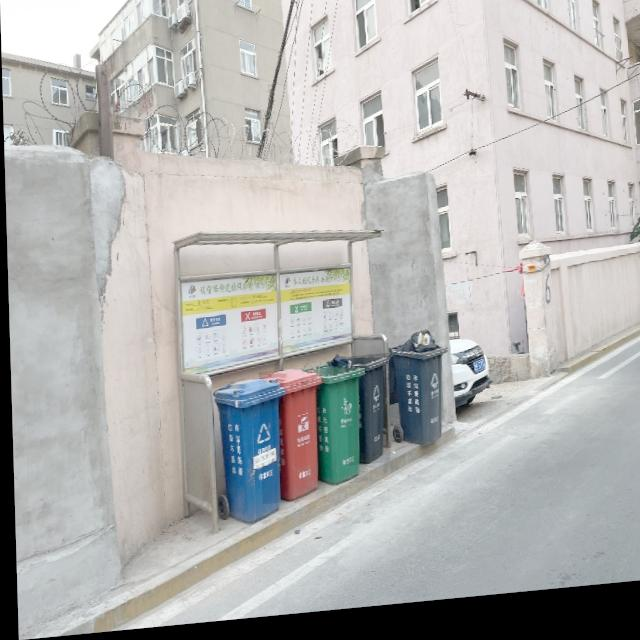garbage_bin: (210, 381, 285, 530), (256, 373, 322, 509), (301, 367, 365, 493), (343, 361, 388, 473)
overflow: (385, 335, 446, 456)
